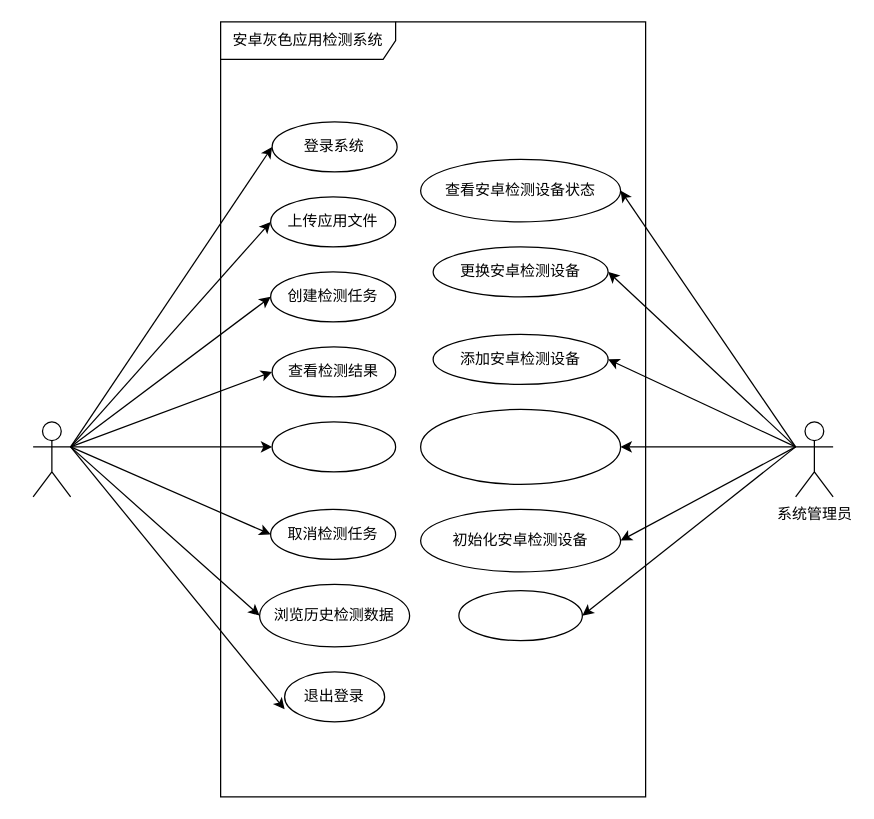
Image size: 874x819. Some labels were removed from this diagram. Here are the shapes that lost their labels. From the top down, the centre of each, then its label:
At (51,459): "企业用户".
At (333,446): "查看检测任务".
At (520,446): "USB链接安卓检测设备".
At (520,615): "系统启动运行".
